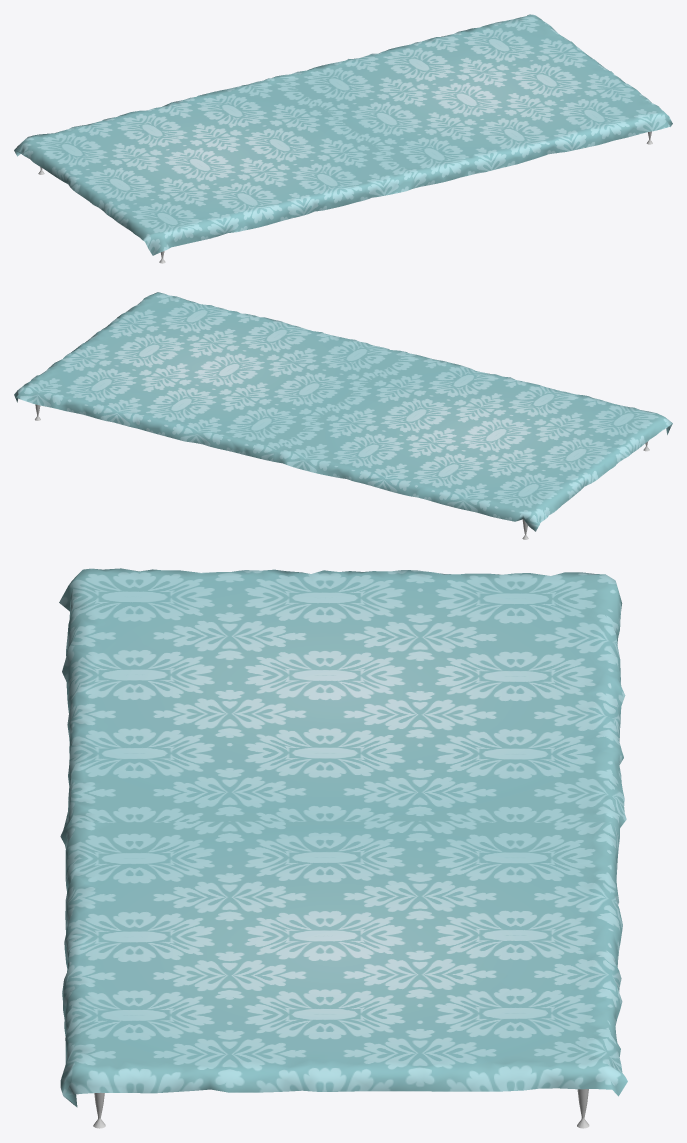
File: new table and cloth.FBX
3 renders of one model, top to bottom at view 1: azimuth 30°, elevation 25°; view 2: azimuth 150°, elevation 25°; view 3: azimuth 270°, elevation 25°, orthographic. The views are drawn at different scales.
Parts seen in each view (by area): view 1: Rectangle001; view 2: Rectangle001; view 3: Rectangle001.
Part boxes in pixels (left/top/right/bottom): Rectangle001: left=14, top=14, right=672, bottom=255; Rectangle001: left=14, top=292, right=672, bottom=531; Rectangle001: left=59, top=568, right=627, bottom=1107.
Bounding box in the file's own units: 406 × 25.58 × 190.
Materials: 1 (1 with a texture image).
